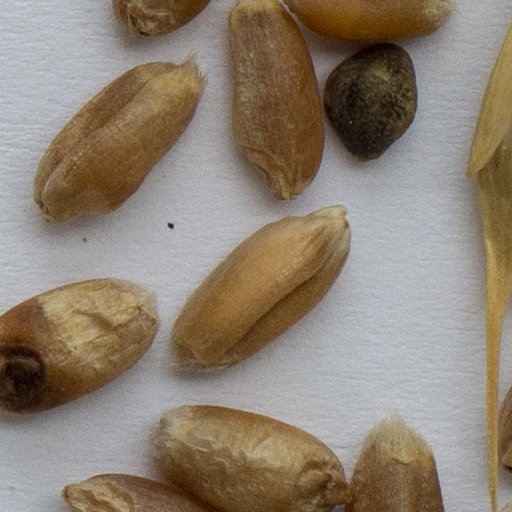Peel-poly: (468, 33, 511, 510)
